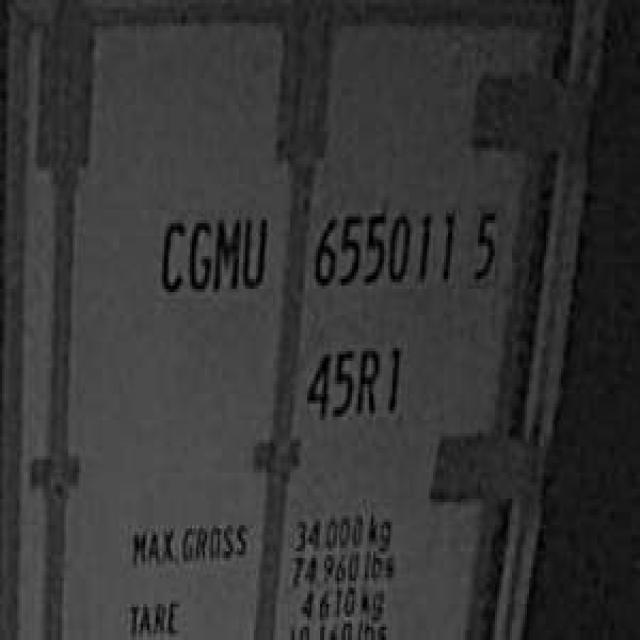dv: (467, 194, 504, 288)
owner: (154, 204, 271, 305)
serial: (305, 197, 459, 299)
size: (301, 334, 407, 426)
